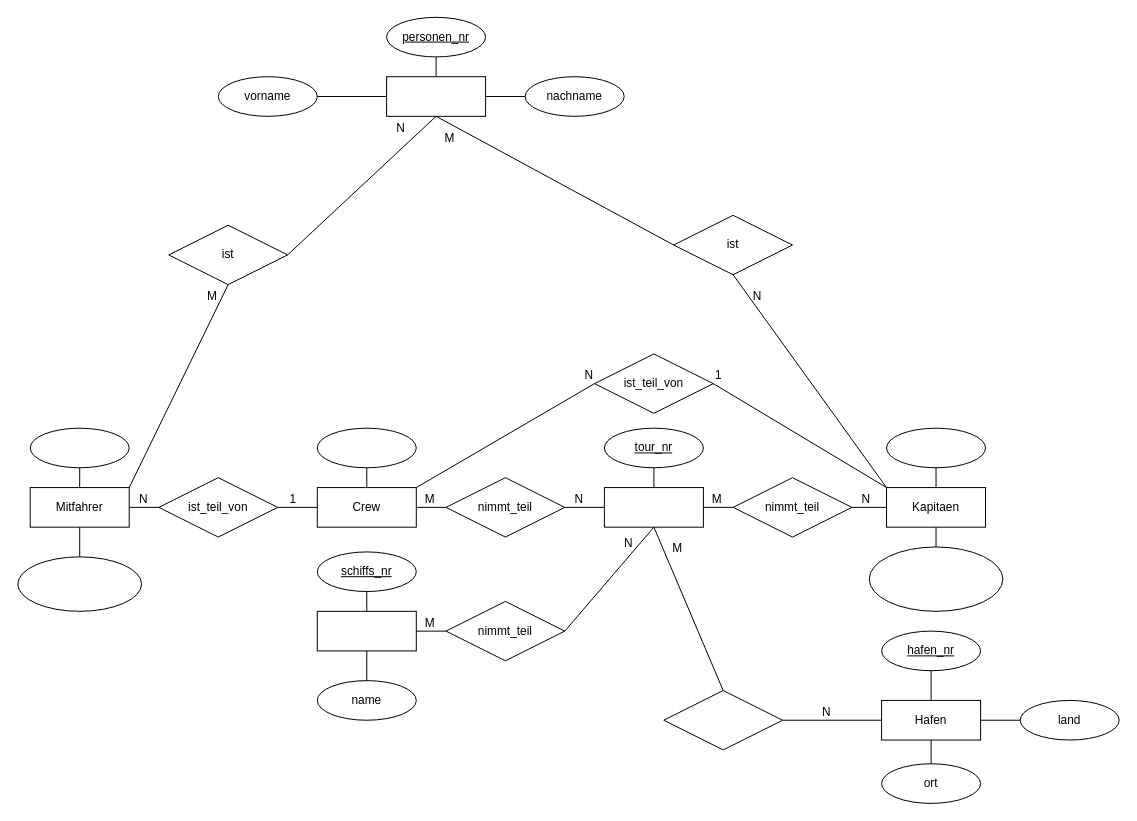
This 1137x821 diagram has some shape labels left out. Here are the shapes that lost their labels. From the top down, the centre of each, then its label:
At [436,96]: "Person".
At [79,447]: "mitfahrer_nr".
At [366,447]: "crew_nr".
At [936,447]: "kapitaen_nr".
At [653,507]: "Tour".
At [79,583]: "anzahlDerTouren".
At [935,578]: "anzahlDerSeejahre".
At [366,630]: "Yacht".
At [723,720]: "faert_an".
